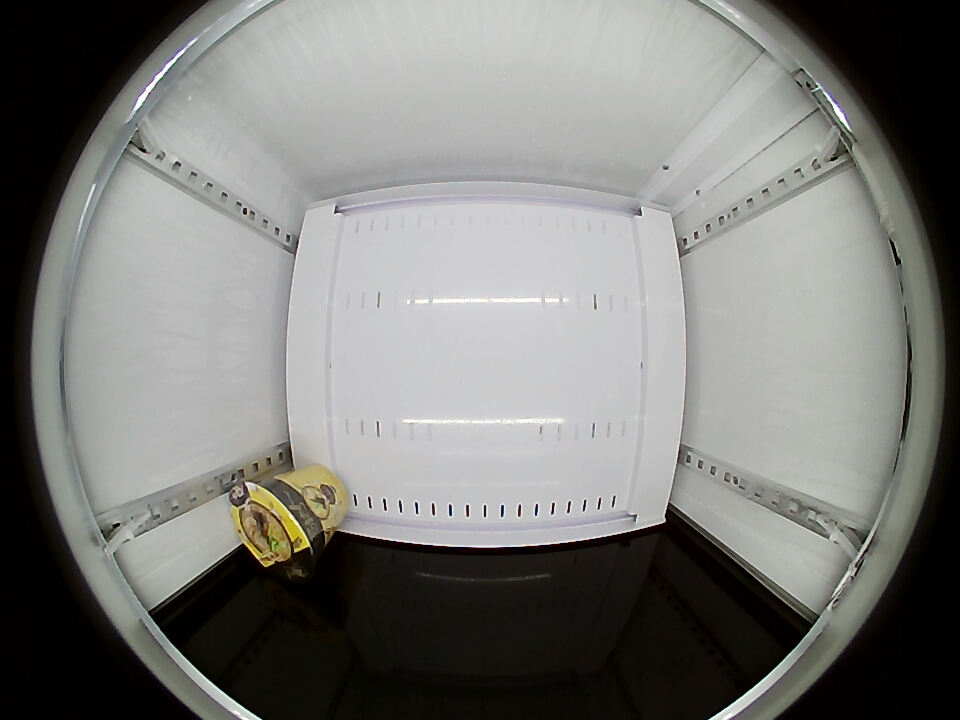tangdaren2: (229, 476, 321, 579)
